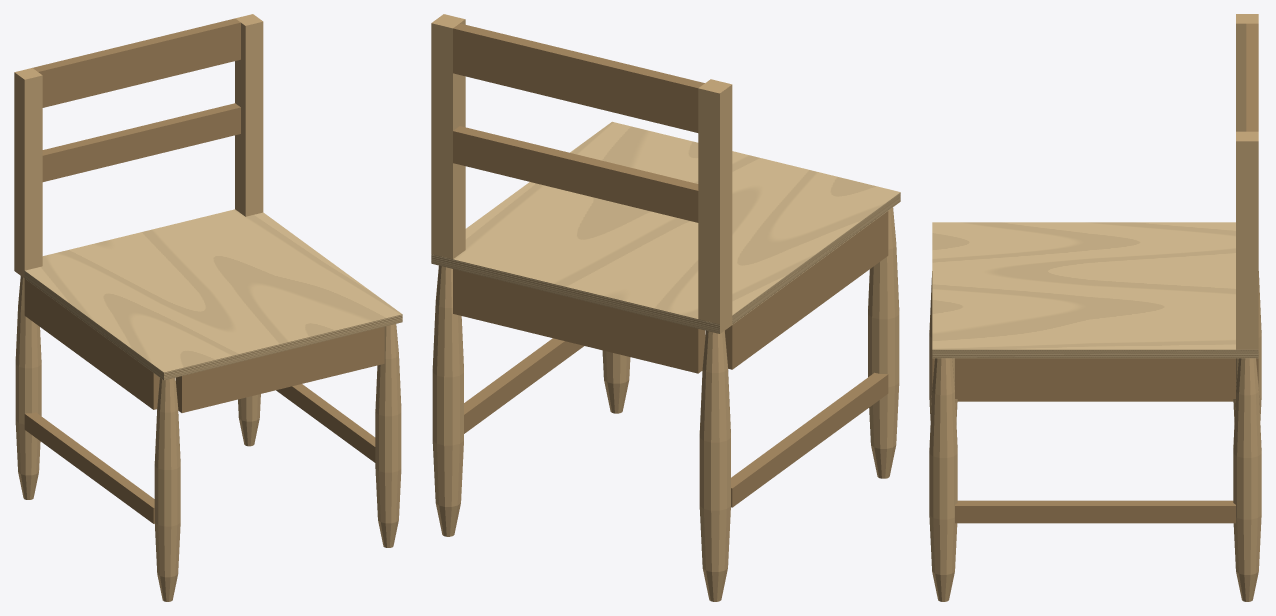
File: SAB-OCH-std.glb
The picture shows the model from 3 angles, left to right: view 1: azimuth 30°, elevation 25°; view 2: azimuth 150°, elevation 25°; view 3: azimuth 270°, elevation 25°; orthographic projection. The views are drawn at different scales.
Visible parts, largest first — view 1: seat:sheet:eyJtIjoicGx5Iiwic2lkZSI6ImZhY2UiLCJzZWVkIjo2LCJ2Z, leg-bl:pbr, back-top:pbr, rail-f:pbr, back-mid:pbr, leg-br:pbr, leg-fl:pbr, rail-l:pbr, leg-fr:pbr, stretcher-l:pbr, stretcher-r:pbr, seat:sheet:eyJtIjoicGx5Iiwic2lkZSI6ImVkZ2UtZW5kIiwic2VlZCI6N (+1 smaller); view 2: seat:sheet:eyJtIjoicGx5Iiwic2lkZSI6ImZhY2UiLCJzZWVkIjo2LCJ2Z, leg-bl:pbr, leg-br:pbr, back-top:pbr, rail-b:pbr, back-mid:pbr, rail-l:pbr, leg-fl:pbr, stretcher-l:pbr, stretcher-r:pbr, seat:sheet:eyJtIjoicGx5Iiwic2lkZSI6ImVkZ2UtZW5kIiwic2VlZCI6N, seat:sheet:eyJtIjoicGx5Iiwic2lkZSI6ImVkZ2UtbG9uZyIsInNlZWQiO (+1 smaller); view 3: seat:sheet:eyJtIjoicGx5Iiwic2lkZSI6ImZhY2UiLCJzZWVkIjo2LCJ2Z, rail-r:pbr, leg-br:pbr, stretcher-r:pbr, leg-fr:pbr, seat:sheet:eyJtIjoicGx5Iiwic2lkZSI6ImVkZ2UtbG9uZyIsInNlZWQiO, leg-bl:pbr, back-top:pbr, stretcher-l:pbr, leg-fl:pbr.
Part boxes in pixels (x1,y1,x2,y2): seat:sheet:eyJtIjoicGx5Iiwic2lkZSI6ImZhY2UiLCJzZWVkIjo2LCJ2Z: (25, 209, 401, 372); leg-bl:pbr: (14, 68, 42, 499); back-top:pbr: (32, 18, 240, 107); rail-f:pbr: (176, 326, 384, 412); back-mid:pbr: (42, 103, 240, 181); leg-br:pbr: (235, 14, 263, 446); leg-fl:pbr: (154, 377, 180, 601); rail-l:pbr: (24, 279, 159, 409); leg-fr:pbr: (375, 324, 401, 547); stretcher-l:pbr: (24, 412, 154, 523); stretcher-r:pbr: (276, 384, 375, 462); seat:sheet:eyJtIjoicGx5Iiwic2lkZSI6ImVkZ2UtZW5kIiwic2VlZCI6N: (164, 314, 402, 380); seat:sheet:eyJtIjoicGx5Iiwic2lkZSI6ImZhY2UiLCJzZWVkIjo2LCJ2Z: (453, 121, 900, 318); leg-bl:pbr: (698, 79, 732, 601); leg-br:pbr: (431, 14, 465, 536); back-top:pbr: (453, 23, 704, 132); rail-b:pbr: (453, 269, 705, 373); back-mid:pbr: (453, 126, 698, 222); rail-l:pbr: (725, 211, 888, 369); leg-fl:pbr: (868, 207, 899, 478); stretcher-l:pbr: (731, 372, 888, 507); stretcher-r:pbr: (464, 338, 583, 433); seat:sheet:eyJtIjoicGx5Iiwic2lkZSI6ImVkZ2UtZW5kIiwic2VlZCI6N: (431, 254, 719, 333); seat:sheet:eyJtIjoicGx5Iiwic2lkZSI6ImVkZ2UtbG9uZyIsInNlZWQiO: (732, 192, 900, 324); seat:sheet:eyJtIjoicGx5Iiwic2lkZSI6ImZhY2UiLCJzZWVkIjo2LCJ2Z: (932, 222, 1235, 349); rail-r:pbr: (955, 358, 1235, 398); leg-br:pbr: (1233, 131, 1261, 601); stretcher-r:pbr: (955, 500, 1235, 523); leg-fr:pbr: (929, 358, 957, 601); seat:sheet:eyJtIjoicGx5Iiwic2lkZSI6ImVkZ2UtbG9uZyIsInNlZWQiO: (932, 349, 1258, 358); leg-bl:pbr: (1233, 14, 1261, 421); back-top:pbr: (1246, 23, 1258, 131); stretcher-l:pbr: (957, 399, 1233, 401); leg-fl:pbr: (929, 271, 957, 421).
Size of the model in its own units: 0.48 by 0.8 by 0.52.
Materials: 15 (3 with a texture image).
